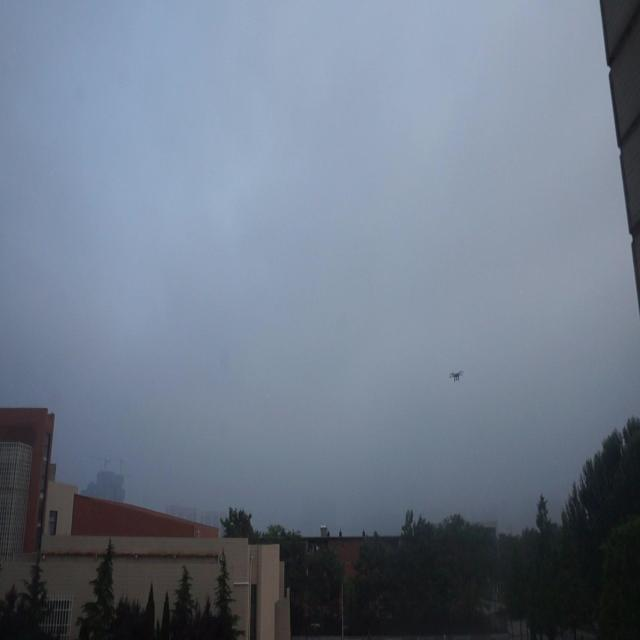drone: (447, 362, 466, 390)
